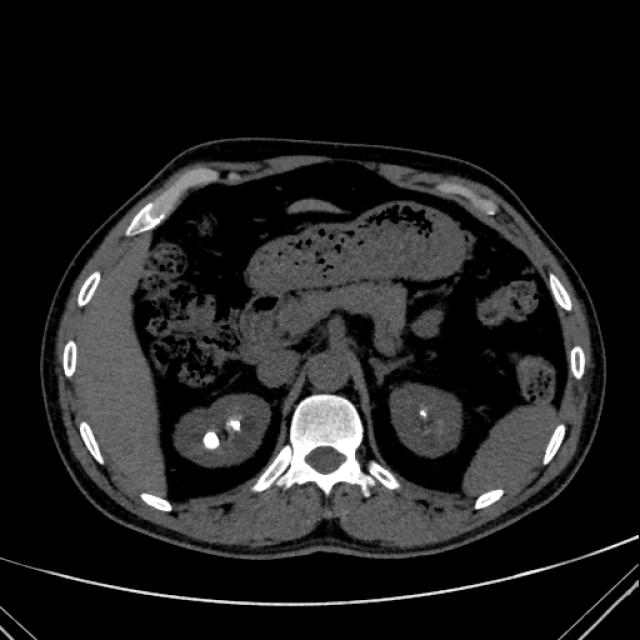kidneystone: (202, 431, 220, 449), (226, 417, 241, 432)
